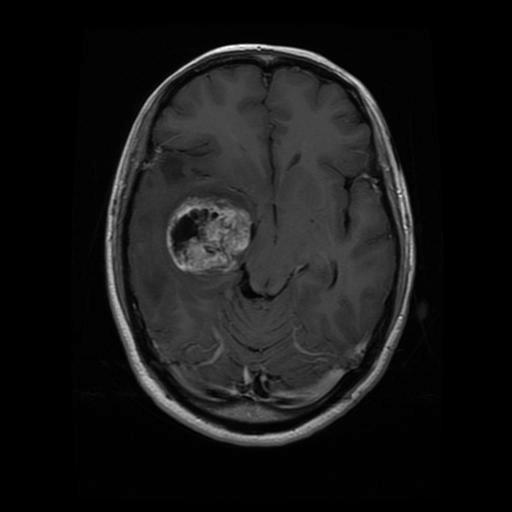Tumour-Glioma: (172, 178, 253, 285)
